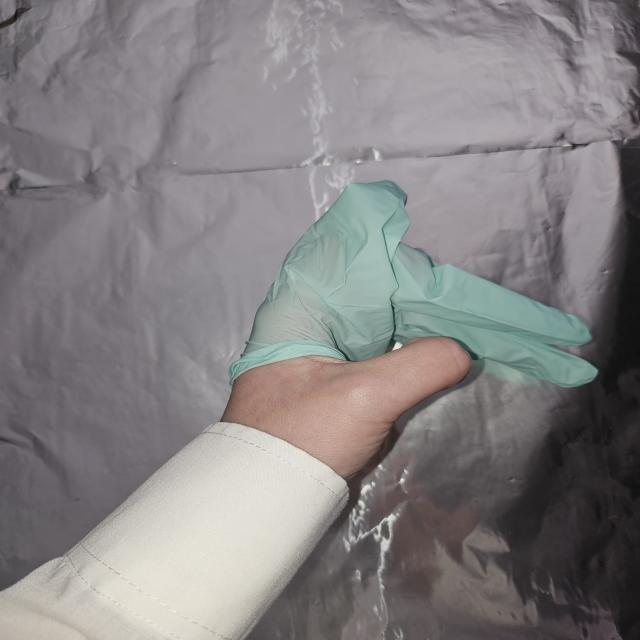glove_partial: (223, 178, 600, 480)
